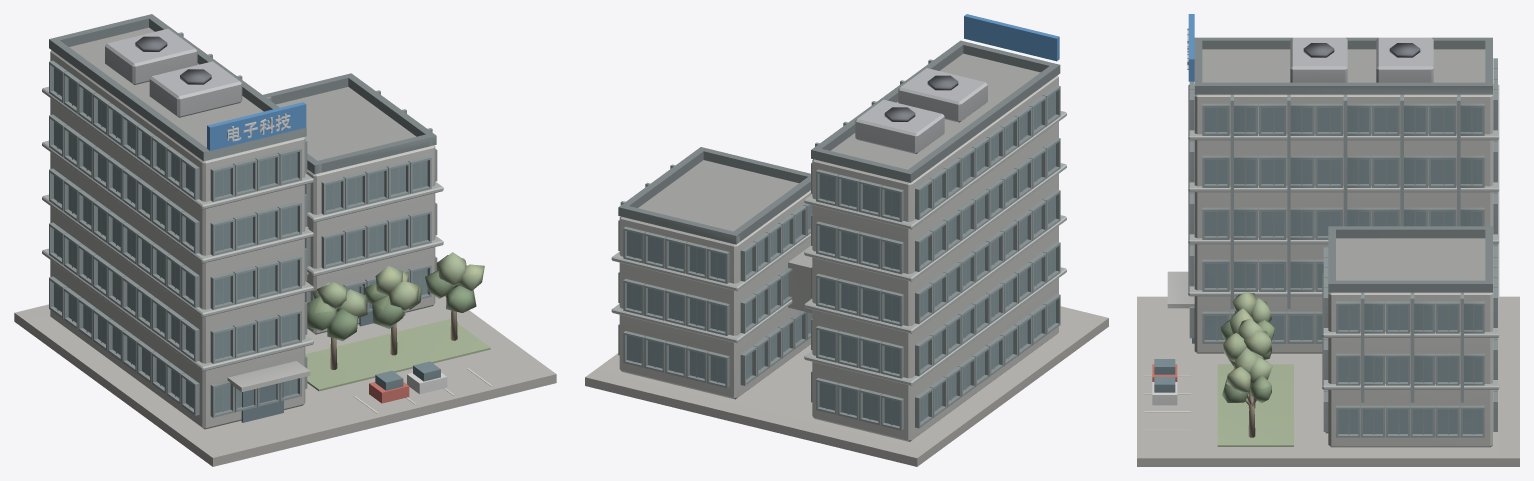
Rendered from electronics.glb.
3 views of the same model, side by side, from view 1: azimuth 30°, elevation 25°; view 2: azimuth 150°, elevation 25°; view 3: azimuth 270°, elevation 25° (orthographic). The views are drawn at different scales.
Parts seen in each view (by area): view 1: electronics; view 2: electronics; view 3: electronics.
Boxes of the visible parts, x1=… form: electronics: x1=14, y1=14, x2=556, y2=466; electronics: x1=585, y1=14, x2=1108, y2=466; electronics: x1=1137, y1=14, x2=1519, y2=466.
Bounding box in the file's own units: 2 × 1.75 × 2.
